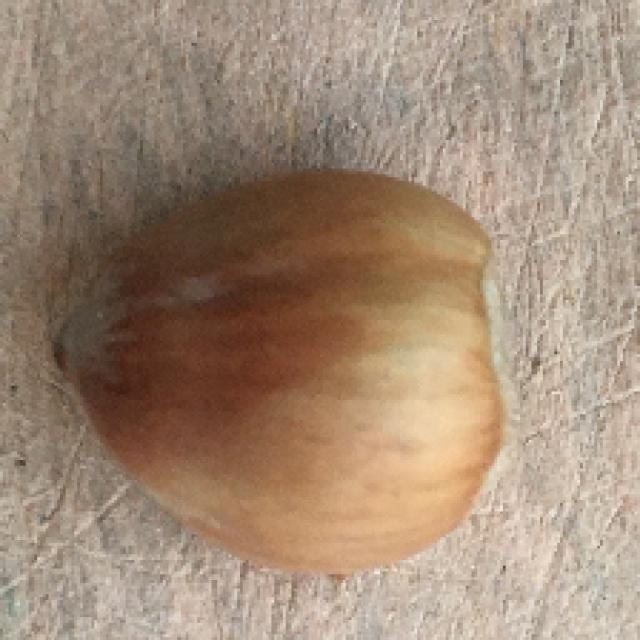damagedHazelnut: (45, 170, 513, 582)
